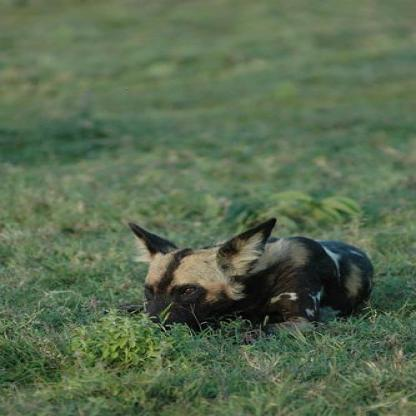African_hunting_dog: (124, 213, 372, 334)
